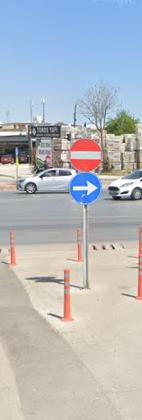turnright: (71, 172, 101, 203)
